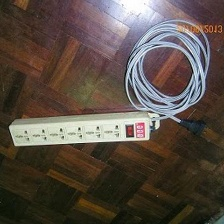three_eye_plug: (7, 107, 154, 148)
